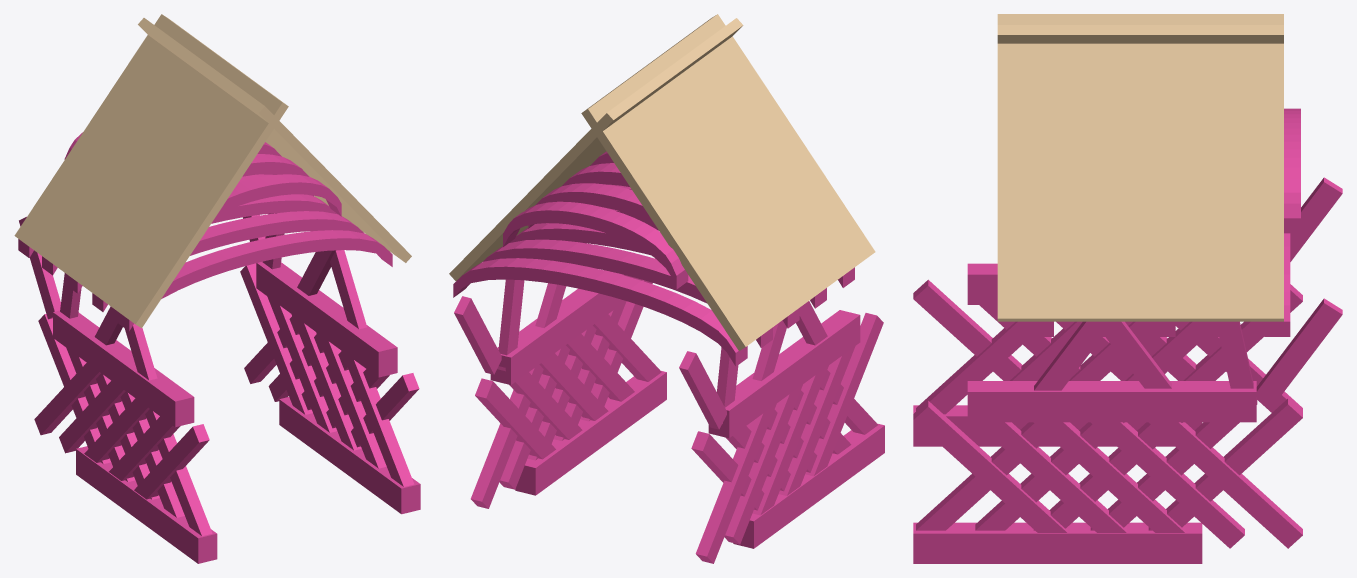
The model's file is haut_pont.fbx.
The picture shows the model from 3 angles, left to right: view 1: azimuth 30°, elevation 25°; view 2: azimuth 150°, elevation 25°; view 3: azimuth 270°, elevation 25°; orthographic projection. The views are drawn at different scales.
Parts seen in each view (by area): view 1: Cube.002, planche-_3m_low.009, planche-_3m_low.008, Cube.001, planche-3m_curved_low.007, planche-1m80_low.003, planche-1m80_low.007, planche-3m_curved_low.003, planche-1m80_low.004, planche-1m80_low.008, planche-1m80_low.006, planche-1m80_low.005 (+11 smaller); view 2: Cube.002, planche-_3m_low.009, planche-_3m_low.008, planche-3m_curved_low.006, Cube.001, planche-1m80_low.012, planche-3m_curved_low.011, planche-3m_curved_low.005, planche-1m80_low.011, planche-1m80_low.008, planche-1m80_low.007, planche-_1m_low.012 (+12 smaller); view 3: Cube.001, planche-_3m_low.009, planche-_3m_low.008, planche-1m80_low.008, planche-1m80_low.003, Cube.002, planche-1m80_low.012, planche-1m80_low.011, planche-1m80_low.007, planche-_1m_low.012, planche-1m80_low.009, planche-1m80_low.010 (+8 smaller).
Part boxes in pixels (left/top/right/bottom): Cube.002: left=14, top=14, right=288, bottom=328; planche-_3m_low.009: left=53, top=261, right=397, bottom=427; planche-_3m_low.008: left=76, top=397, right=420, bottom=563; Cube.001: left=138, top=18, right=411, bottom=262; planche-3m_curved_low.007: left=118, top=230, right=392, bottom=331; planche-1m80_low.003: left=145, top=351, right=414, bottom=536; planche-1m80_low.007: left=38, top=263, right=312, bottom=463; planche-3m_curved_low.003: left=92, top=211, right=364, bottom=311; planche-1m80_low.004: left=120, top=332, right=386, bottom=517; planche-1m80_low.008: left=134, top=373, right=419, bottom=499; planche-1m80_low.006: left=66, top=296, right=337, bottom=481; planche-1m80_low.005: left=96, top=314, right=361, bottom=499; Cube.002: left=581, top=14, right=875, bottom=350; planche-_3m_low.009: left=490, top=270, right=860, bottom=438; planche-_3m_low.008: left=515, top=371, right=884, bottom=548; planche-3m_curved_low.006: left=453, top=258, right=747, bottom=366; Cube.001: left=449, top=18, right=743, bottom=280; planche-1m80_low.012: left=470, top=364, right=776, bottom=563; planche-3m_curved_low.011: left=503, top=201, right=688, bottom=289; planche-3m_curved_low.005: left=483, top=239, right=772, bottom=347; planche-1m80_low.011: left=499, top=345, right=802, bottom=544; planche-1m80_low.008: left=580, top=280, right=883, bottom=476; planche-1m80_low.007: left=475, top=378, right=764, bottom=510; planche-_1m_low.012: left=454, top=296, right=726, bottom=429; Cube.001: left=997, top=14, right=1283, bottom=321; planche-_3m_low.009: left=967, top=263, right=1256, bottom=422; planche-_3m_low.008: left=913, top=405, right=1202, bottom=563; planche-1m80_low.008: left=913, top=279, right=1067, bottom=532; planche-1m80_low.003: left=916, top=321, right=1048, bottom=530; Cube.002: left=997, top=25, right=1283, bottom=43; planche-1m80_low.012: left=1149, top=321, right=1302, bottom=548; planche-1m80_low.011: left=1091, top=321, right=1244, bottom=548; planche-1m80_low.007: left=1148, top=284, right=1302, bottom=530; planche-_1m_low.012: left=1256, top=177, right=1342, bottom=405; planche-1m80_low.009: left=975, top=305, right=1126, bottom=532; planche-1m80_low.010: left=1033, top=321, right=1185, bottom=532.
Bounding box in the file's own units: 3.62 × 3.18 × 4.47.
